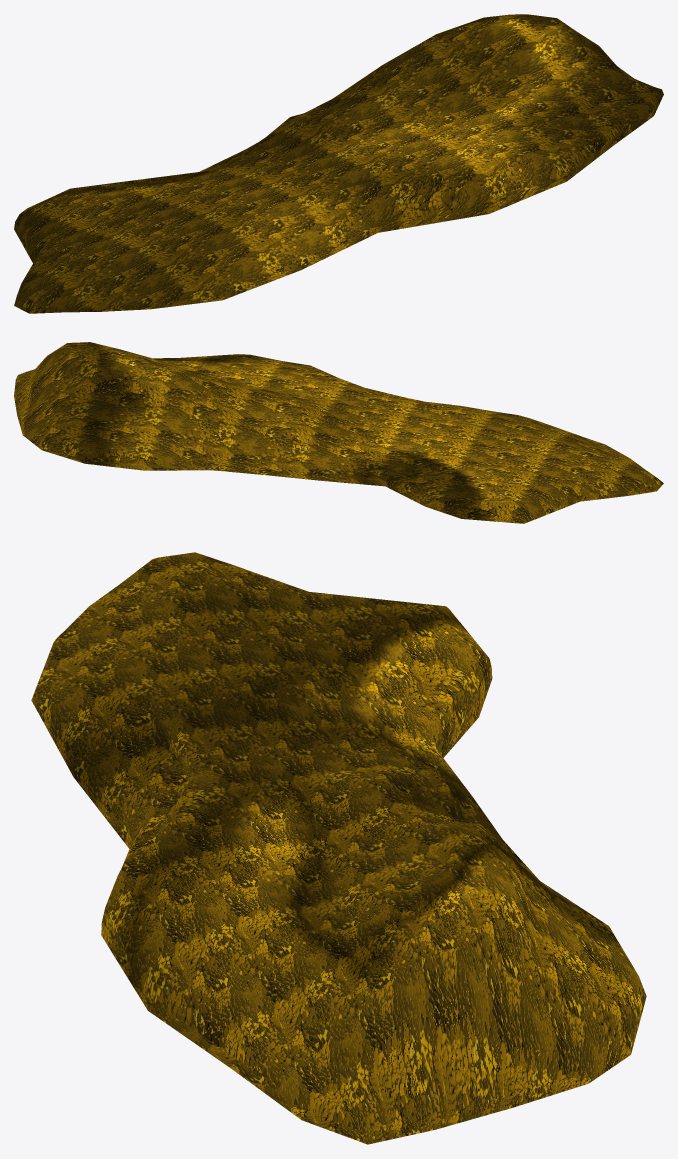
File: CH09_SMAUG_PLAYSURFACE_LAIR81.obj
The picture shows the model from 3 angles, top to bottom: view 1: azimuth 30°, elevation 25°; view 2: azimuth 150°, elevation 25°; view 3: azimuth 270°, elevation 25°; orthographic projection. The views are drawn at different scales.
Visible parts, largest first — view 1: lair81; view 2: lair81; view 3: lair81.
Part boxes in pixels (bbox=[...]): lair81: bbox=[14, 14, 663, 313]; lair81: bbox=[14, 342, 663, 523]; lair81: bbox=[31, 552, 646, 1144].
Size of the model in its own units: 3905 by 476 by 1748.
